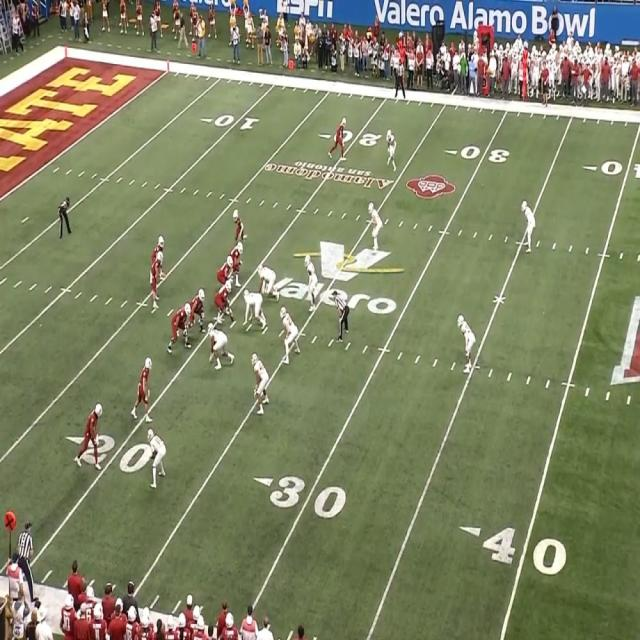center: (218, 284, 238, 320)
db: (148, 429, 168, 486), (460, 316, 476, 376), (254, 354, 269, 416), (524, 200, 536, 253), (370, 202, 382, 247), (386, 128, 396, 166)
lb: (282, 310, 298, 362), (304, 257, 319, 311)
qb: (148, 252, 161, 311)
skill: (78, 398, 102, 469), (134, 354, 153, 420), (332, 116, 346, 158), (234, 207, 243, 241), (155, 237, 164, 250)
